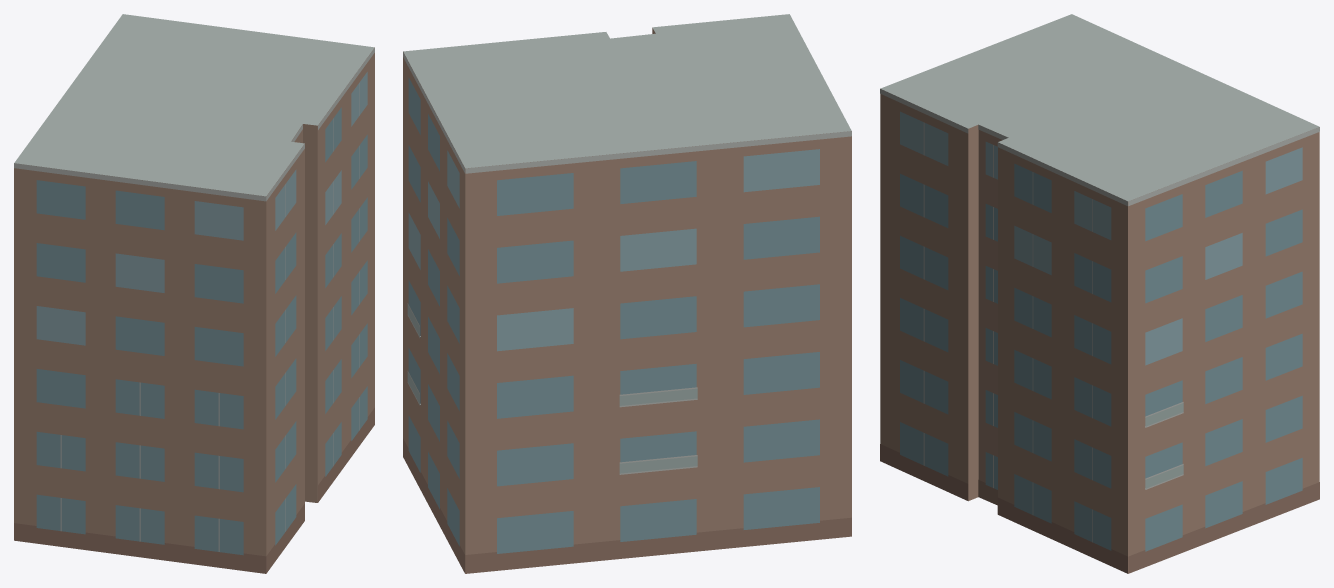
Rendered from survey-upis-32684472.glb.
3 views of the same model, side by side, from view 1: azimuth 30°, elevation 25°; view 2: azimuth 150°, elevation 25°; view 3: azimuth 270°, elevation 25° (orthographic). The views are drawn at different scales.
Visible parts, largest first — view 1: survey-upis-32684472.tmp; view 2: survey-upis-32684472.tmp; view 3: survey-upis-32684472.tmp.
Boxes of the visible parts, x1,y1,x2,y2 form: survey-upis-32684472.tmp: [14, 14, 374, 573]; survey-upis-32684472.tmp: [403, 14, 851, 573]; survey-upis-32684472.tmp: [880, 14, 1319, 573].
Size of the model in its own units: 19.75 by 18.3 by 19.58.
